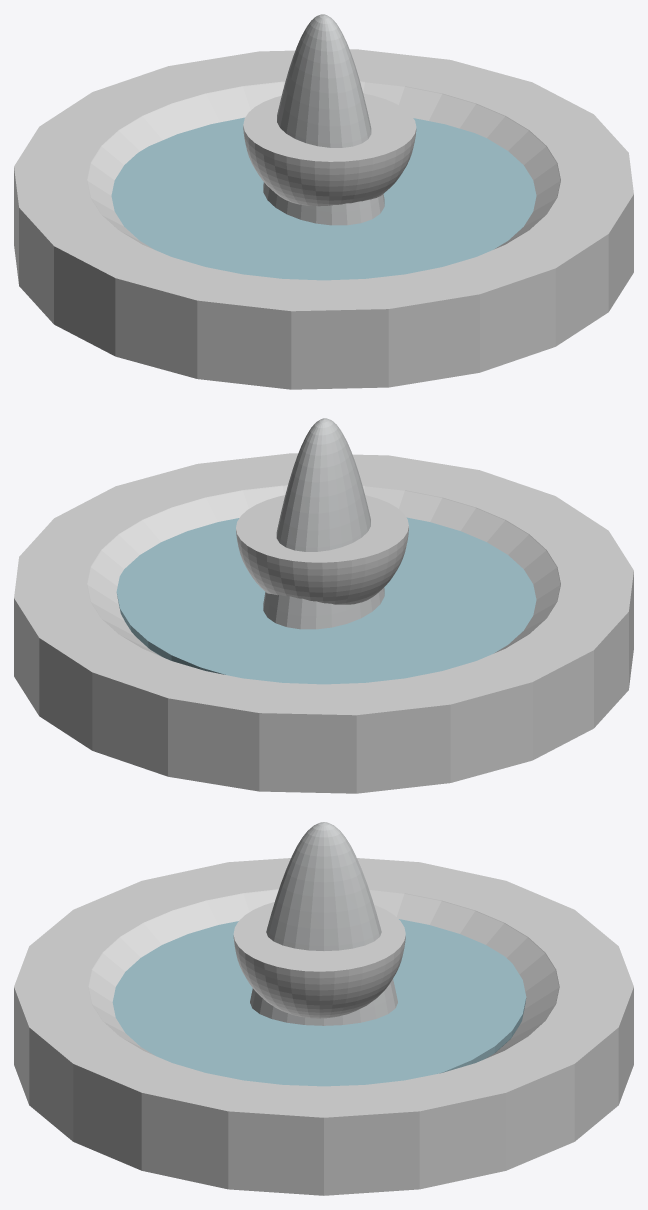
The model's file is fountain.glb.
3 views of the same model, one above another, from view 1: azimuth 30°, elevation 25°; view 2: azimuth 150°, elevation 25°; view 3: azimuth 270°, elevation 25° (orthographic).
Visible parts, largest first — view 1: Mesh_Mesh_head_geo.001_lambert2SG.001; view 2: Mesh_Mesh_head_geo.001_lambert2SG.001; view 3: Mesh_Mesh_head_geo.001_lambert2SG.001.
Part boxes in pixels (x1=…): Mesh_Mesh_head_geo.001_lambert2SG.001: x1=14, y1=14, x2=633, y2=389; Mesh_Mesh_head_geo.001_lambert2SG.001: x1=14, y1=418, x2=633, y2=793; Mesh_Mesh_head_geo.001_lambert2SG.001: x1=14, y1=822, x2=633, y2=1195.
Bounding box in the file's own units: 72 × 34 × 72.
